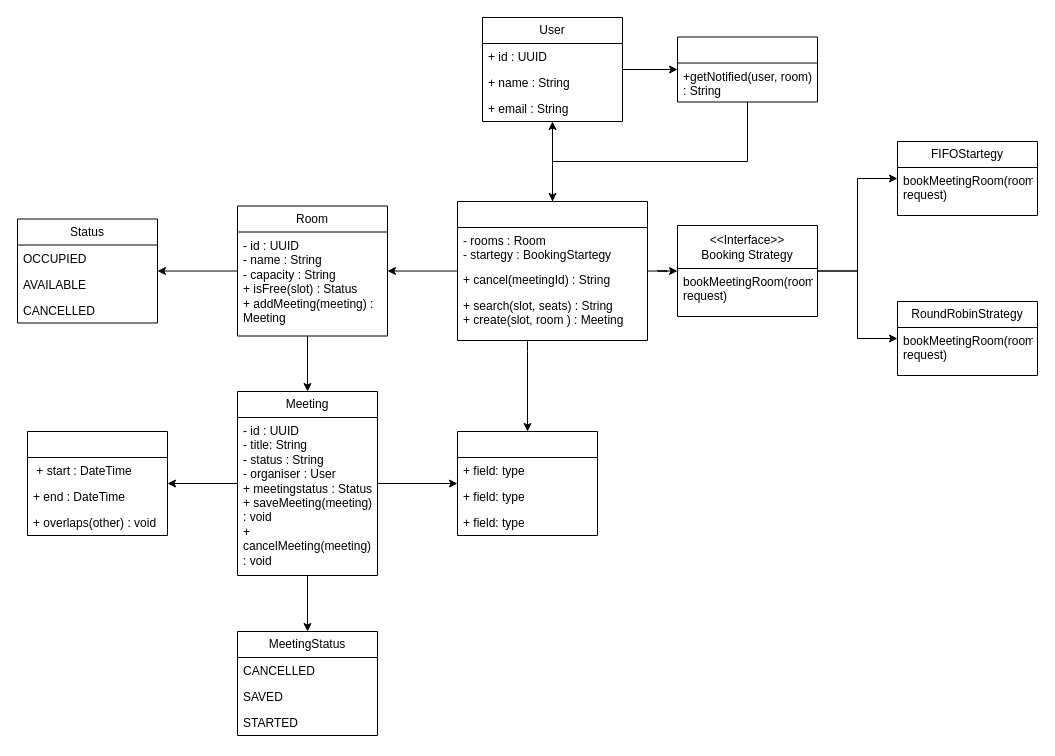
The diagram is 1055 pixels wide and 756 high, and some of its shapes have lost their labels. The box of each missing label's shape, as (x1, y1, x2, y2) in pixels:
Meeting Observer: (456, 430, 598, 536)
Meeting Room Schedular: (456, 200, 648, 340)
Notification service: (676, 36, 818, 102)
TimeSlot: (26, 430, 168, 536)
